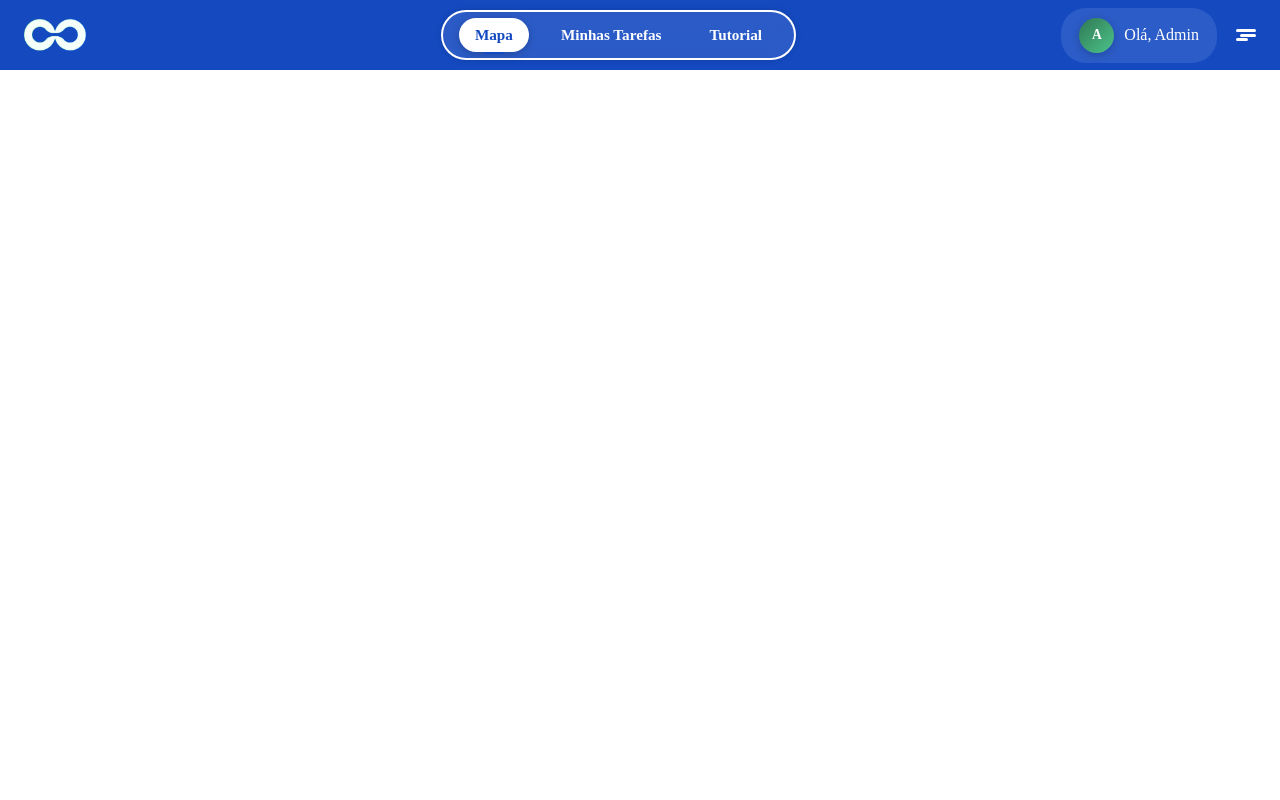
Navbar Component › abre SettingsMenu se usuário for admin
Click the element with id "opcoes" at (1246, 35), box [1236,29,1256,41]
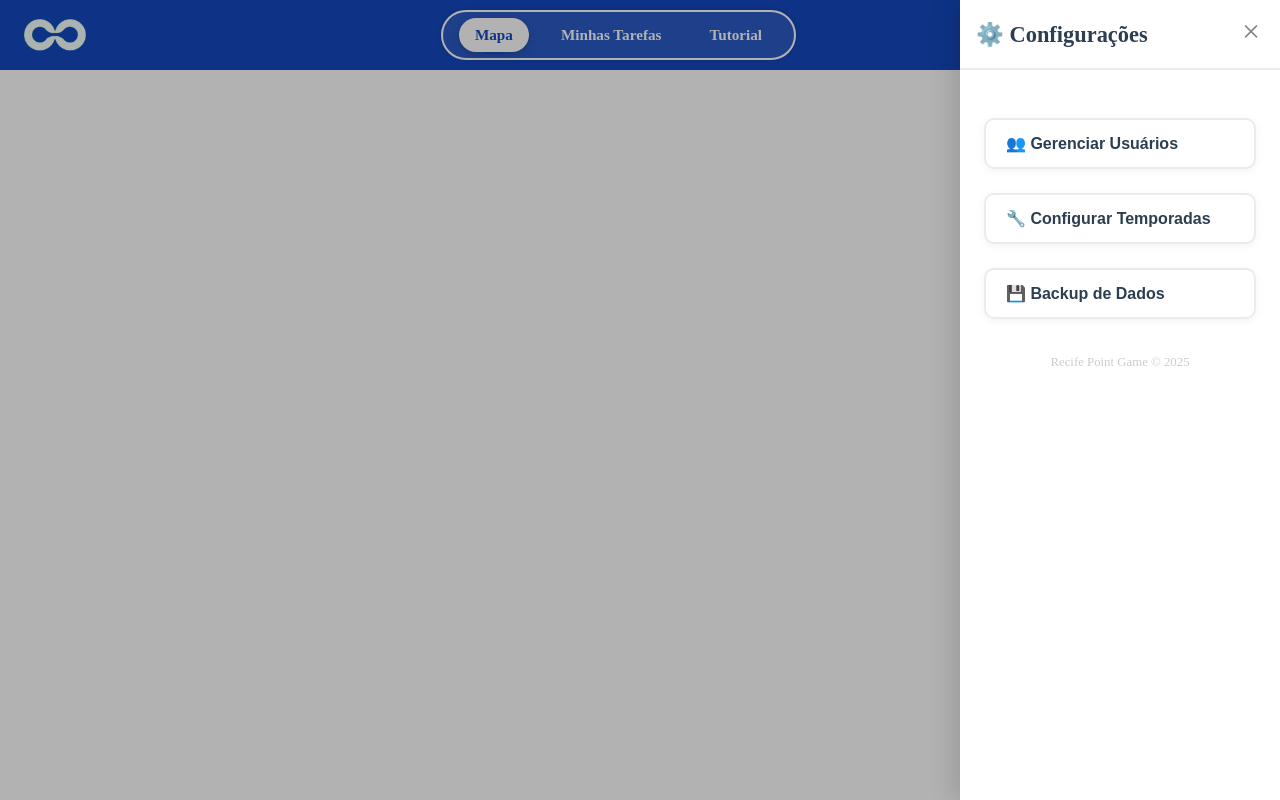
Now the element with class "settings-overlay" is shown
